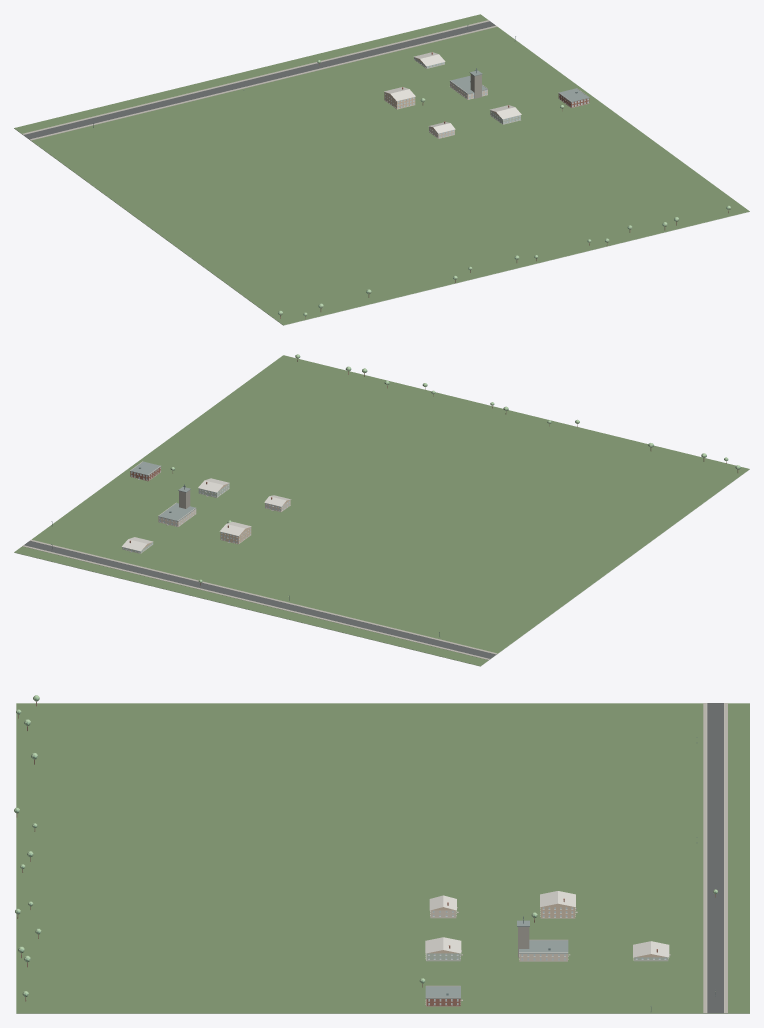
Rendered from chunk_1_2_high.glb.
3 views of the same model, one above another, from view 1: azimuth 30°, elevation 25°; view 2: azimuth 150°, elevation 25°; view 3: azimuth 270°, elevation 25° (orthographic). The views are drawn at different scales.
Parts seen in each view (by area): view 1: city_forest_floor, city_world_asphalt, city_world_sidewalk, city_roof_tile, city_grass, city_curb, city_roof_slate; view 2: city_forest_floor, city_world_asphalt, city_world_sidewalk, city_roof_tile, city_grass, city_roof_slate, city_curb; view 3: city_forest_floor, city_world_asphalt, city_world_sidewalk, city_roof_tile, city_roof_slate, city_curb, city_trim, city_grass, city_wall_sand, city_wall_cream.
Part boxes in pixels (x1,y1,x2,y2): city_forest_floor: (14, 14, 749, 325); city_world_asphalt: (24, 21, 495, 139); city_world_sidewalk: (22, 20, 497, 140); city_roof_tile: (384, 52, 521, 133); city_grass: (14, 128, 749, 325); city_curb: (23, 21, 495, 138); city_roof_slate: (450, 70, 589, 102); city_forest_floor: (14, 355, 749, 665); city_world_asphalt: (24, 541, 495, 658); city_world_sidewalk: (22, 479, 497, 660); city_roof_tile: (122, 478, 291, 551); city_grass: (14, 469, 749, 666); city_roof_slate: (130, 461, 196, 521); city_curb: (24, 540, 495, 658); city_forest_floor: (16, 703, 749, 1013); city_world_asphalt: (707, 703, 723, 1013); city_world_sidewalk: (457, 703, 727, 1013); city_roof_tile: (425, 891, 669, 957); city_roof_slate: (425, 920, 568, 998); city_curb: (706, 703, 724, 1012); city_trim: (425, 907, 668, 1006); city_grass: (16, 1013, 749, 1013); city_wall_sand: (428, 903, 666, 957); city_wall_cream: (430, 910, 567, 961).
Size of the model in its own units: 512 by 30.17 by 514.
